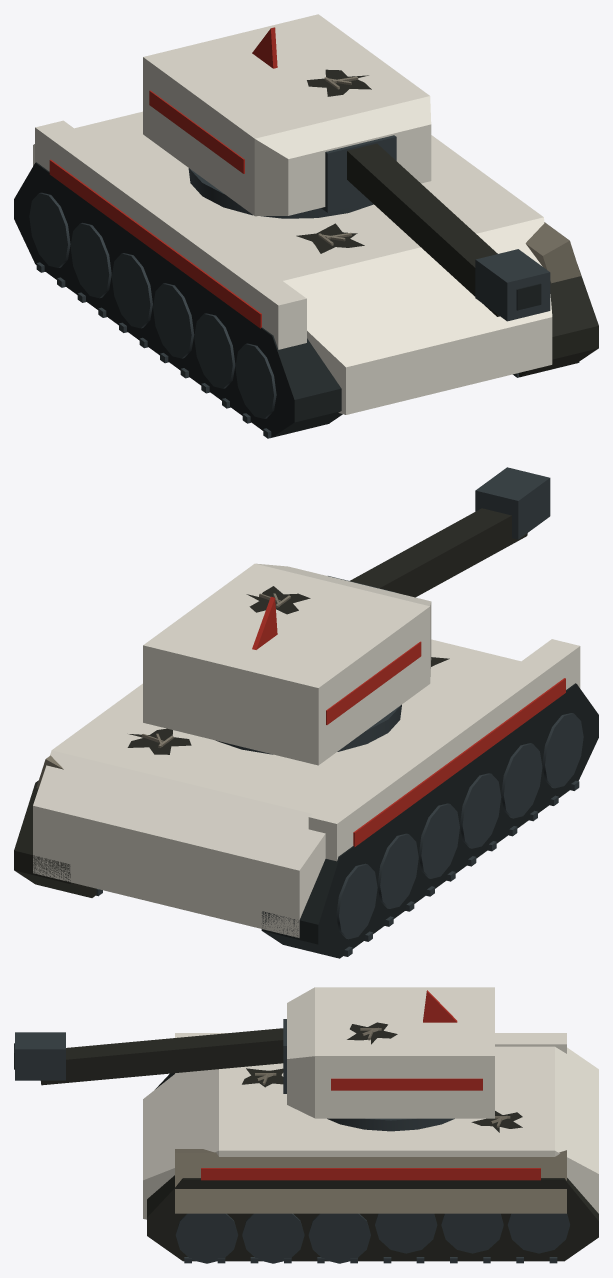
3 views of the same model, one above another, from view 1: azimuth 30°, elevation 25°; view 2: azimuth 150°, elevation 25°; view 3: azimuth 270°, elevation 25° (orthographic). The views are drawn at different scales.
Visible parts, largest first — view 1: tank-damaged-fleet-armor, turret-fleet-armor, tank-damaged-fleet-rubber, tank-damaged-fleet-machine, barrel-fleet-damage-charred, barrel-fleet-machine, tank-damaged-fleet-damage-charred, tank-damaged-fleet-red, tank-damaged-fleet-damage-metal, turret-fleet-red, barrel-fleet-rubber; view 2: tank-damaged-fleet-armor, turret-fleet-armor, tank-damaged-fleet-machine, tank-damaged-fleet-rubber, barrel-fleet-damage-charred, tank-damaged-fleet-damage-charred, barrel-fleet-machine, tank-damaged-fleet-red, turret-fleet-red; view 3: tank-damaged-fleet-armor, turret-fleet-armor, tank-damaged-fleet-machine, tank-damaged-fleet-damage-metal, tank-damaged-fleet-damage-charred, barrel-fleet-damage-charred, tank-damaged-fleet-red, barrel-fleet-machine, turret-fleet-red.
Part boxes in pixels (<box>): tank-damaged-fleet-armor: <box>33,111,552,414</box>; turret-fleet-armor: <box>143,14,431,216</box>; tank-damaged-fleet-rubber: <box>14,162,342,437</box>; tank-damaged-fleet-machine: <box>29,168,579,438</box>; barrel-fleet-damage-charred: <box>347,143,499,316</box>; barrel-fleet-machine: <box>321,135,550,321</box>; tank-damaged-fleet-damage-charred: <box>296,69,598,376</box>; tank-damaged-fleet-red: <box>49,159,261,328</box>; tank-damaged-fleet-damage-metal: <box>318,76,580,283</box>; turret-fleet-red: <box>149,27,277,173</box>; barrel-fleet-rubber: <box>516,283,541,310</box>; tank-damaged-fleet-armor: <box>33,639,580,937</box>; turret-fleet-armor: <box>143,563,431,765</box>; tank-damaged-fleet-machine: <box>96,704,583,956</box>; tank-damaged-fleet-rubber: <box>261,683,598,958</box>; barrel-fleet-damage-charred: <box>350,508,527,597</box>; tank-damaged-fleet-damage-charred: <box>14,586,449,897</box>; barrel-fleet-machine: <box>328,467,550,592</box>; tank-damaged-fleet-red: <box>353,678,565,847</box>; turret-fleet-red: <box>252,596,421,724</box>; tank-damaged-fleet-armor: <box>143,1033,598,1219</box>; turret-fleet-armor: <box>287,987,494,1118</box>; tank-damaged-fleet-machine: <box>175,1118,570,1263</box>; tank-damaged-fleet-damage-metal: <box>175,1027,566,1213</box>; tank-damaged-fleet-damage-charred: <box>147,1022,598,1261</box>; barrel-fleet-damage-charred: <box>41,1028,283,1085</box>; tank-damaged-fleet-red: <box>201,1168,540,1180</box>; barrel-fleet-machine: <box>15,1019,286,1093</box>; turret-fleet-red: <box>331,990,482,1090</box>.
Size of the model in its own units: 21.41 by 17.08 by 42.63.
